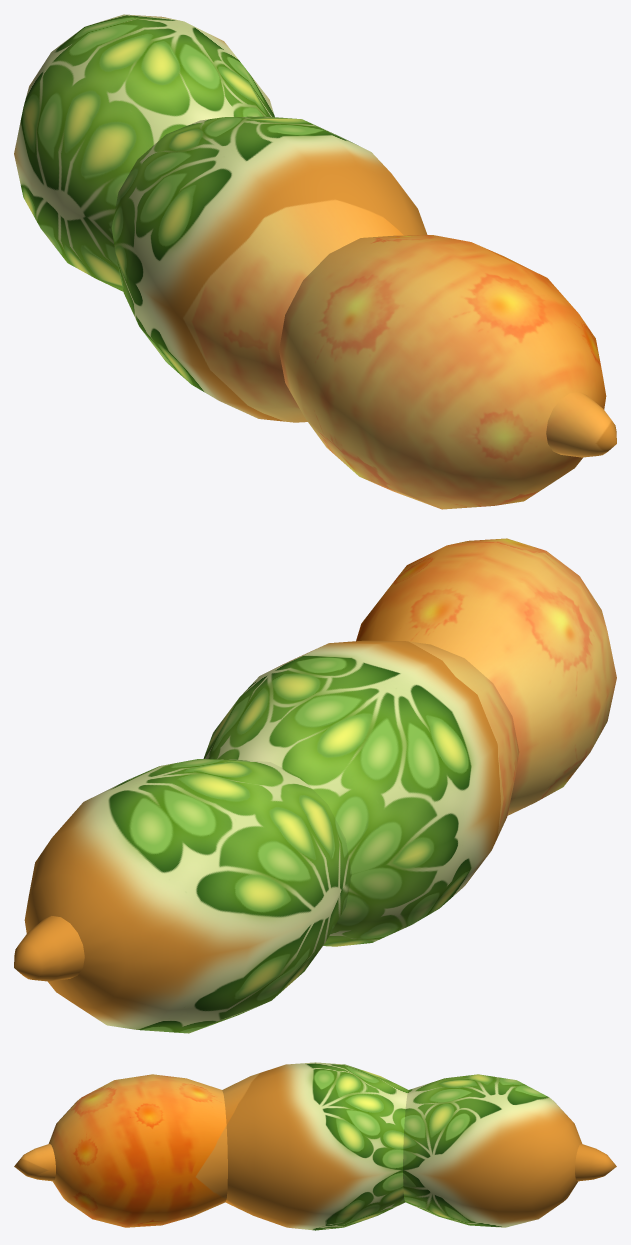
Rendered from Tamarind.fbx.
The picture shows the model from 3 angles, top to bottom: view 1: azimuth 30°, elevation 25°; view 2: azimuth 150°, elevation 25°; view 3: azimuth 270°, elevation 25°; orthographic projection. The views are drawn at different scales.
Parts seen in each view (by area): view 1: Tamarind; view 2: Tamarind; view 3: Tamarind.
Part boxes in pixels (x1,y1,x2,y2): Tamarind: [14, 14, 616, 509]; Tamarind: [14, 538, 616, 1033]; Tamarind: [14, 1062, 616, 1230].
Bounding box in the file's own units: 20.05 × 19.38 × 69.43.
